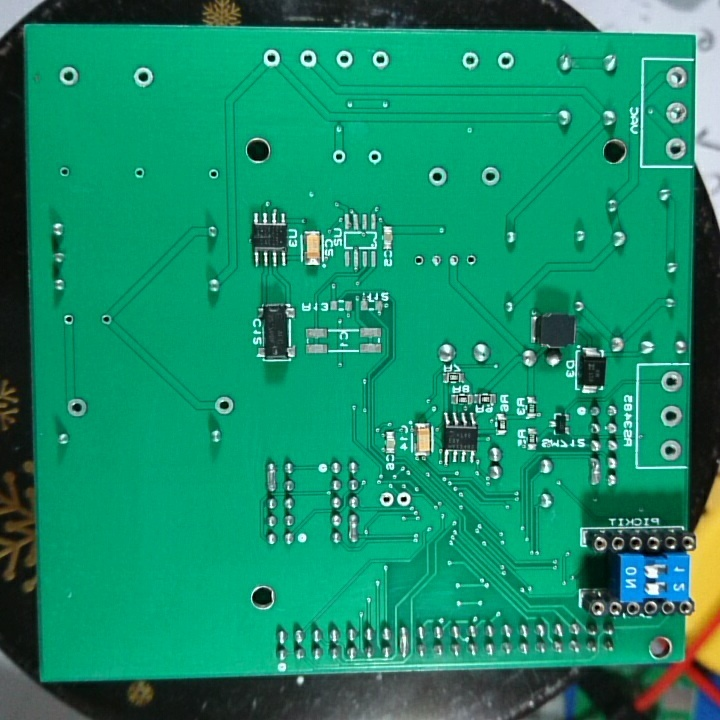F: (662, 134, 688, 163), (664, 64, 689, 93), (659, 368, 683, 397), (664, 99, 688, 128), (130, 64, 156, 90), (56, 63, 82, 89), (659, 403, 684, 429), (296, 46, 321, 72), (370, 48, 393, 75), (332, 46, 356, 71), (659, 437, 682, 463), (479, 163, 502, 189), (424, 165, 451, 187), (212, 394, 236, 418), (64, 395, 87, 420), (261, 46, 283, 71), (459, 49, 481, 73), (496, 50, 519, 72), (376, 489, 395, 511), (330, 146, 349, 168), (462, 250, 479, 272), (396, 489, 412, 511), (364, 148, 383, 166), (427, 253, 444, 270), (132, 165, 148, 183), (61, 313, 77, 330), (445, 252, 460, 270), (98, 312, 113, 329), (56, 165, 72, 180), (207, 167, 222, 183), (411, 254, 427, 268)
P: (263, 458, 279, 493), (396, 623, 410, 660), (346, 512, 361, 544), (587, 455, 602, 487)
